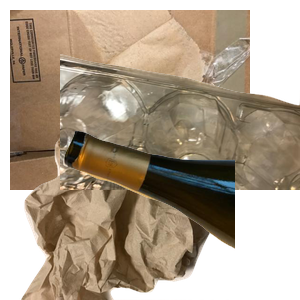cardboard: (10, 10, 250, 190)
glass: (60, 128, 300, 300)
plastic: (60, 52, 300, 232)
trash: (19, 120, 249, 300)
